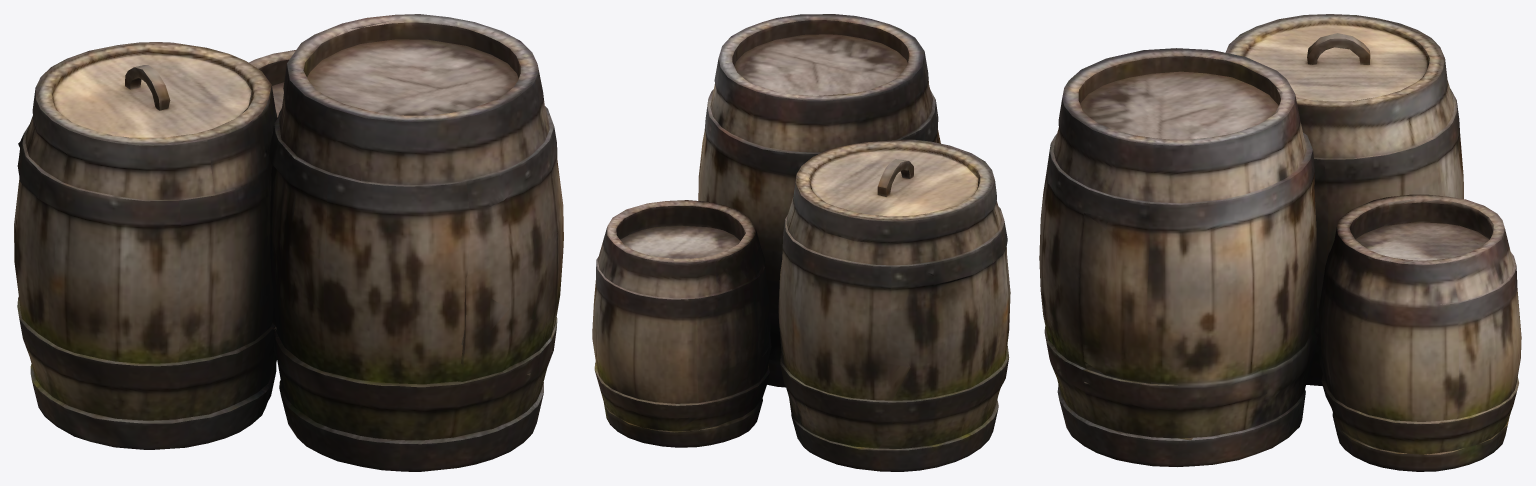
Rendered from prop-barrels.glb.
3 renders of one model, left to right at view 1: azimuth 30°, elevation 25°; view 2: azimuth 150°, elevation 25°; view 3: azimuth 270°, elevation 25°, orthographic. The views are drawn at different scales.
Visible parts, largest first — view 1: prop-barrels; view 2: prop-barrels; view 3: prop-barrels.
Part boxes in pixels (x1=…): prop-barrels: x1=14, y1=14, x2=563, y2=471; prop-barrels: x1=592, y1=14, x2=1010, y2=471; prop-barrels: x1=1039, y1=14, x2=1521, y2=471.
Bounding box in the file's own units: 1.77 × 1.4 × 1.89.
Materials: 1 (1 with a texture image).
